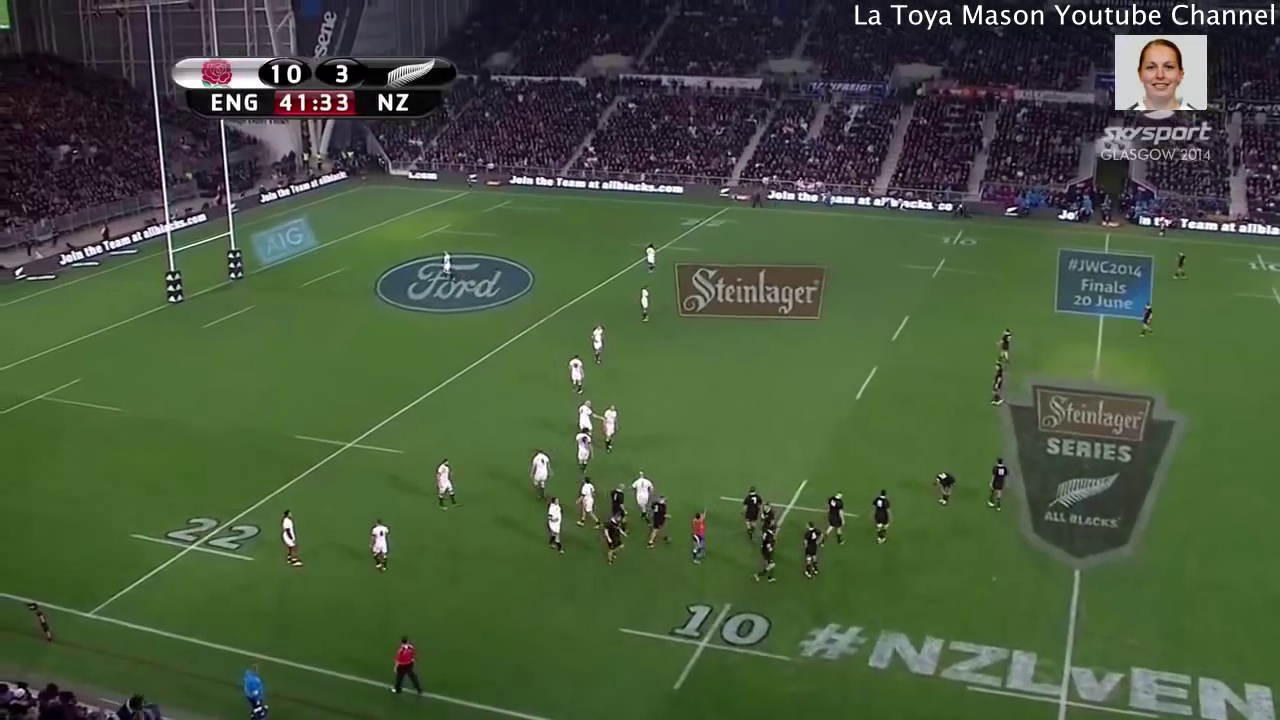10_metre: (618, 598, 796, 693), (719, 474, 863, 544), (899, 254, 982, 282), (926, 226, 996, 249), (1226, 250, 1280, 276), (1233, 283, 1280, 306)
player: (362, 515, 402, 581), (429, 453, 465, 513), (640, 490, 672, 550), (277, 503, 305, 570), (823, 484, 851, 548), (984, 454, 1011, 514), (755, 525, 782, 584), (596, 510, 626, 562), (598, 403, 625, 455), (543, 496, 566, 556), (869, 486, 890, 551), (569, 423, 595, 475), (573, 478, 599, 530), (802, 518, 824, 579), (688, 506, 710, 564), (527, 446, 551, 498), (566, 354, 591, 402), (738, 486, 761, 538), (932, 470, 962, 509), (585, 322, 608, 369), (631, 465, 650, 515), (991, 360, 1009, 409), (1168, 251, 1193, 284), (994, 323, 1014, 364), (1137, 301, 1158, 337), (637, 284, 654, 326), (574, 398, 596, 430), (608, 482, 628, 516), (642, 242, 660, 277), (758, 501, 778, 527), (440, 248, 454, 278)
post: (142, 157, 245, 314)
